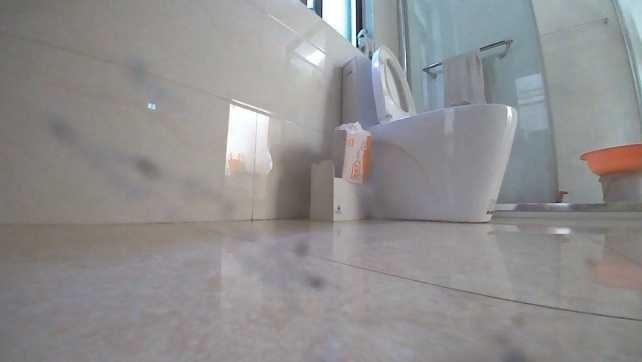door_sill: (556, 199, 641, 220)
toilet: (340, 45, 517, 224)
